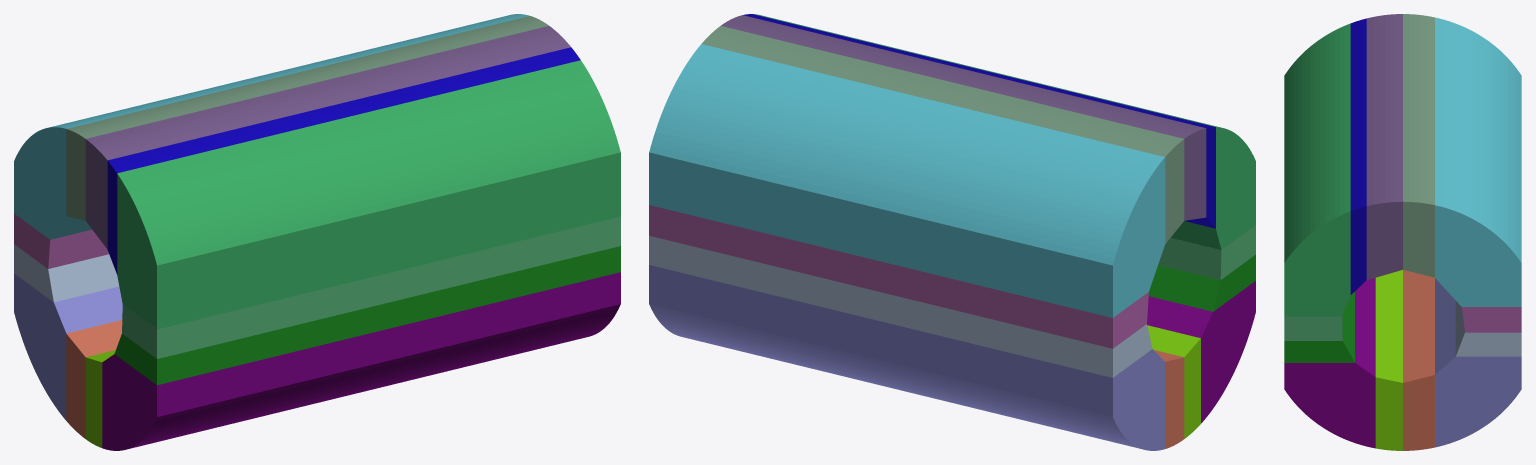
The model's file is 0_canonical.obj.
3 views of the same model, side by side, from view 1: azimuth 30°, elevation 25°; view 2: azimuth 150°, elevation 25°; view 3: azimuth 270°, elevation 25° (orthographic). The views are drawn at different scales.
Parts seen in each view (by area): view 1: geometry_10, geometry_11, geometry_3, geometry_1, geometry_8, geometry_0, geometry_5, geometry_2, geometry_12, geometry_6, geometry_9, geometry_7 (+1 smaller); view 2: geometry_2, geometry_12, geometry_7, geometry_6, geometry_0, geometry_1, geometry_11, geometry_10, geometry_8, geometry_5, geometry_3, geometry_4 (+1 smaller); view 3: geometry_2, geometry_10, geometry_1, geometry_0, geometry_11, geometry_12, geometry_9, geometry_4, geometry_5, geometry_8, geometry_6, geometry_7 (+1 smaller).
Part boxes in pixels (left/top/right/bottom): geometry_10: left=117, top=60, right=620, bottom=329; geometry_11: left=102, top=272, right=620, bottom=450; geometry_3: left=122, top=216, right=620, bottom=358; geometry_1: left=85, top=26, right=570, bottom=249; geometry_8: left=114, top=246, right=620, bottom=385; geometry_0: left=66, top=16, right=548, bottom=220; geometry_5: left=107, top=47, right=580, bottom=274; geometry_2: left=14, top=14, right=529, bottom=239; geometry_12: left=14, top=273, right=122, bottom=420; geometry_6: left=14, top=244, right=119, bottom=302; geometry_9: left=66, top=320, right=122, bottom=438; geometry_7: left=14, top=213, right=108, bottom=268; geometry_2: left=649, top=44, right=1165, bottom=317; geometry_12: left=649, top=265, right=1164, bottom=450; geometry_7: left=649, top=205, right=1148, bottom=348; geometry_6: left=649, top=235, right=1152, bottom=377; geometry_0: left=701, top=26, right=1184, bottom=243; geometry_1: left=721, top=15, right=1206, bottom=220; geometry_11: left=1147, top=281, right=1255, bottom=423; geometry_10: left=753, top=14, right=1255, bottom=249; geometry_8: left=1148, top=254, right=1255, bottom=311; geometry_5: left=743, top=14, right=1215, bottom=228; geometry_3: left=1158, top=225, right=1255, bottom=279; geometry_4: left=1147, top=325, right=1200, bottom=438; geometry_2: left=1435, top=17, right=1521, bottom=306; geometry_10: left=1284, top=23, right=1350, bottom=316; geometry_1: left=1366, top=14, right=1402, bottom=279; geometry_0: left=1403, top=14, right=1434, bottom=277; geometry_11: left=1284, top=278, right=1375, bottom=448; geometry_12: left=1435, top=278, right=1521, bottom=447; geometry_9: left=1403, top=270, right=1434, bottom=450; geometry_4: left=1375, top=270, right=1402, bottom=450; geometry_5: left=1350, top=18, right=1366, bottom=294; geometry_8: left=1284, top=292, right=1354, bottom=362; geometry_6: left=1455, top=301, right=1521, bottom=356; geometry_7: left=1461, top=307, right=1521, bottom=332.
Bounding box in the file's own units: 0.08 × 0.0495 × 0.0427.
